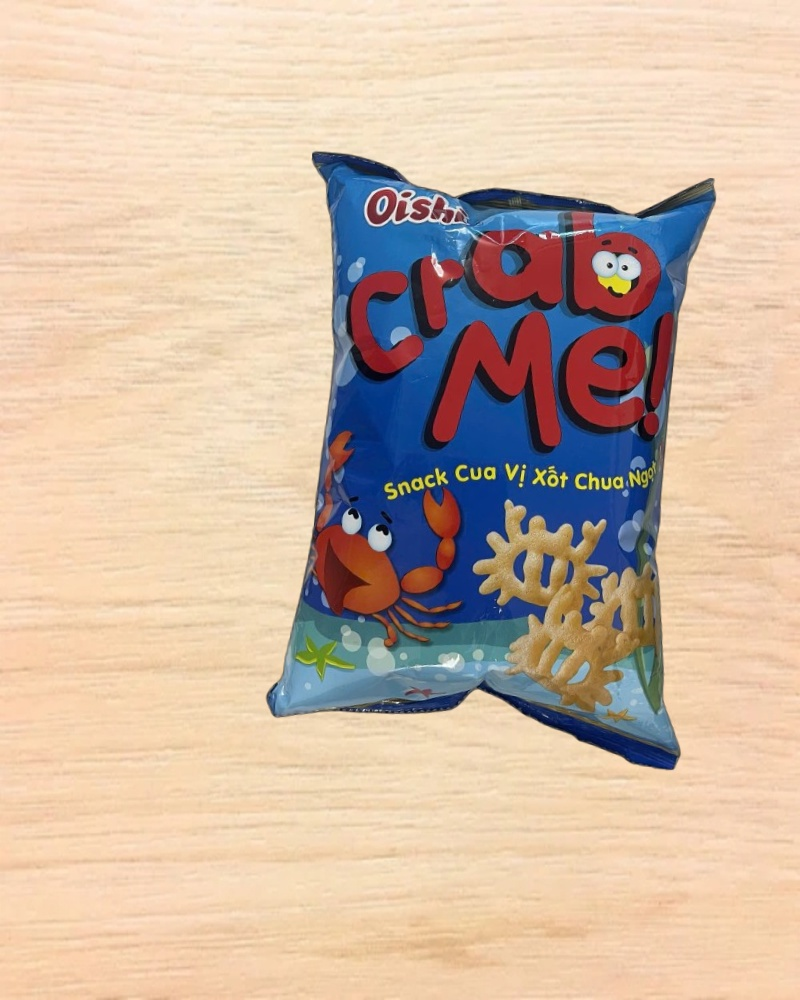Snack chay: (262, 144, 730, 773)
